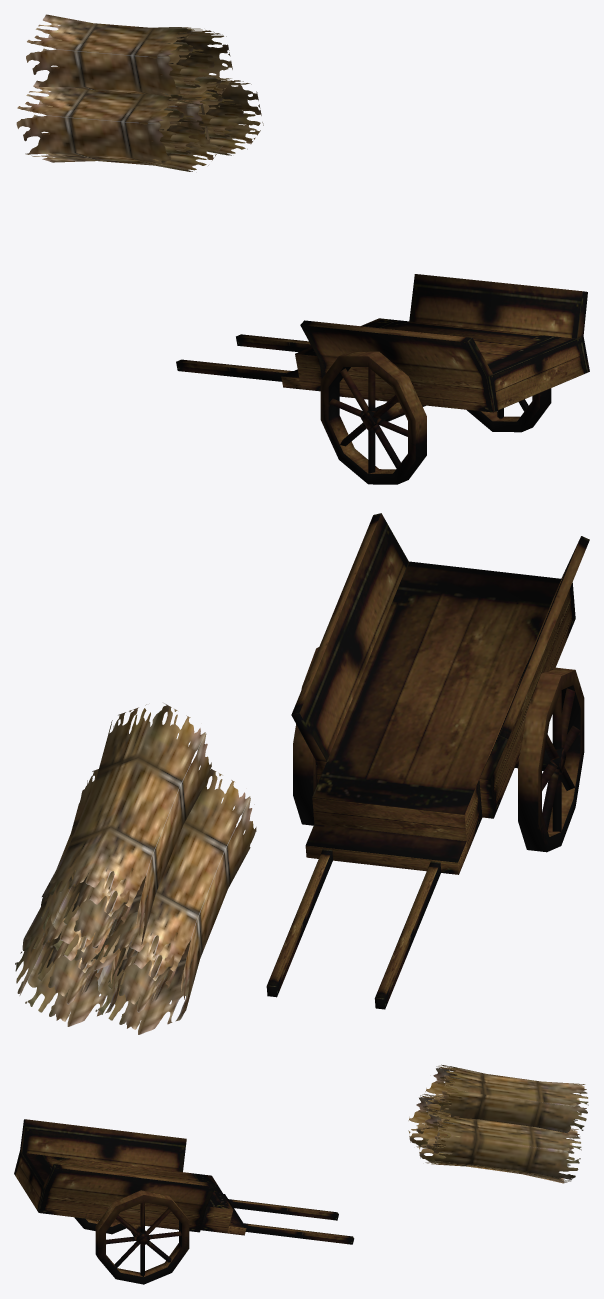
File: che_001.FBX
The picture shows the model from 3 angles, top to bottom: view 1: azimuth 30°, elevation 25°; view 2: azimuth 150°, elevation 25°; view 3: azimuth 270°, elevation 25°; orthographic projection. The views are drawn at different scales.
Visible parts, largest first — view 1: che_001, daocao_001; view 2: che_001, daocao_001; view 3: che_001, daocao_001.
Boxes of the visible parts, bbox=[...] form: che_001: bbox=[176, 274, 589, 484]; daocao_001: bbox=[16, 14, 263, 171]; che_001: bbox=[266, 513, 589, 1009]; daocao_001: bbox=[15, 703, 256, 1034]; che_001: bbox=[14, 1119, 354, 1284]; daocao_001: bbox=[408, 1064, 588, 1183].
Bounding box in the file's own units: 229 × 274 × 761.
